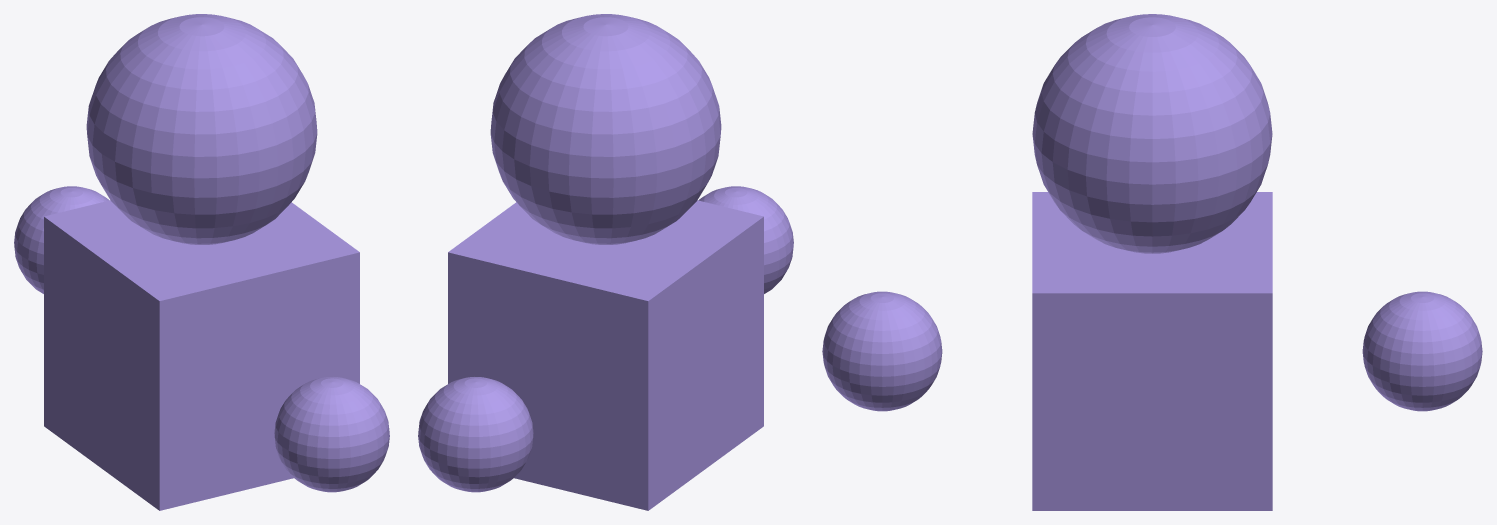
File: Man.fbx
3 renders of one model, left to right at view 1: azimuth 30°, elevation 25°; view 2: azimuth 150°, elevation 25°; view 3: azimuth 270°, elevation 25°, orthographic. The views are drawn at different scales.
Parts seen in each view (by area): view 1: Cube, 球, 球.002, 球.001; view 2: Cube, 球, 球.001, 球.002; view 3: Cube, 球, 球.001, 球.002.
Boxes of the visible parts, box(x1,y1,x2,y2) form: Cube: box(44, 200, 359, 510); 球: box(86, 14, 317, 244); 球.002: box(274, 377, 389, 492); 球.001: box(14, 186, 109, 293); Cube: box(448, 200, 763, 510); 球: box(490, 14, 721, 244); 球.001: box(418, 377, 533, 492); 球.002: box(698, 186, 793, 293); Cube: box(1032, 192, 1272, 510); 球: box(1032, 14, 1272, 253); 球.001: box(1362, 291, 1482, 411); 球.002: box(822, 291, 942, 411).
Bounding box in the file's own units: 200 × 400 × 550.
